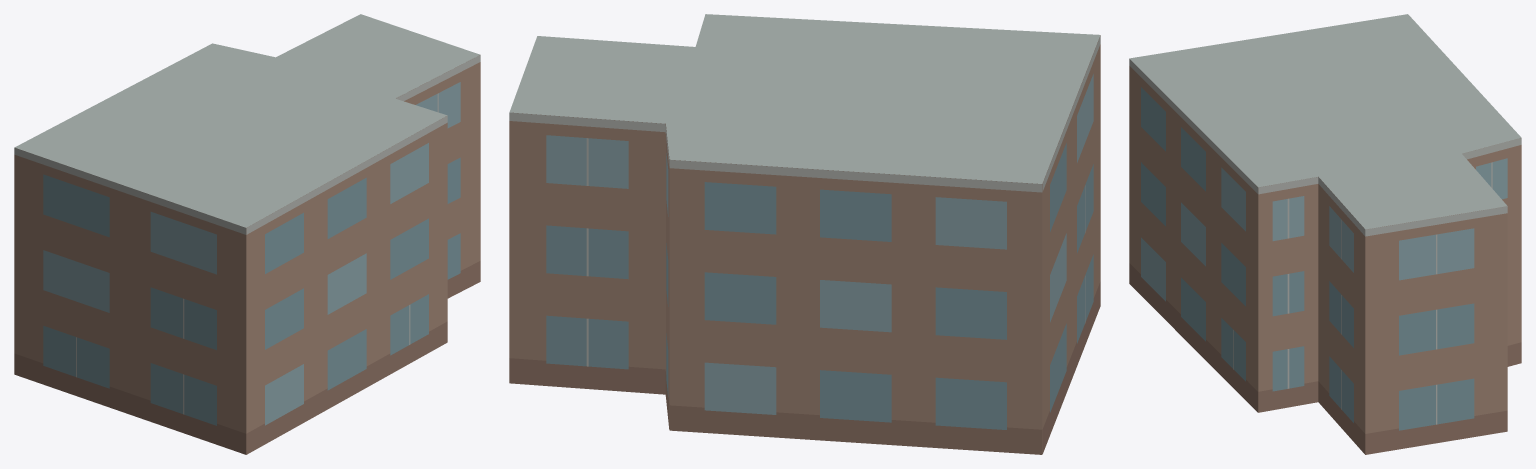
Rendered from survey-upis-32843260.glb.
The picture shows the model from 3 angles, left to right: view 1: azimuth 30°, elevation 25°; view 2: azimuth 150°, elevation 25°; view 3: azimuth 270°, elevation 25°; orthographic projection. The views are drawn at different scales.
Parts seen in each view (by area): view 1: survey-upis-32843260.tmp; view 2: survey-upis-32843260.tmp; view 3: survey-upis-32843260.tmp.
Boxes of the visible parts, <box> form: survey-upis-32843260.tmp: <box>14,14,480,454</box>; survey-upis-32843260.tmp: <box>509,14,1100,454</box>; survey-upis-32843260.tmp: <box>1129,14,1521,454</box>.
Bounding box in the file's own units: 16 × 7.8 × 12.32.
